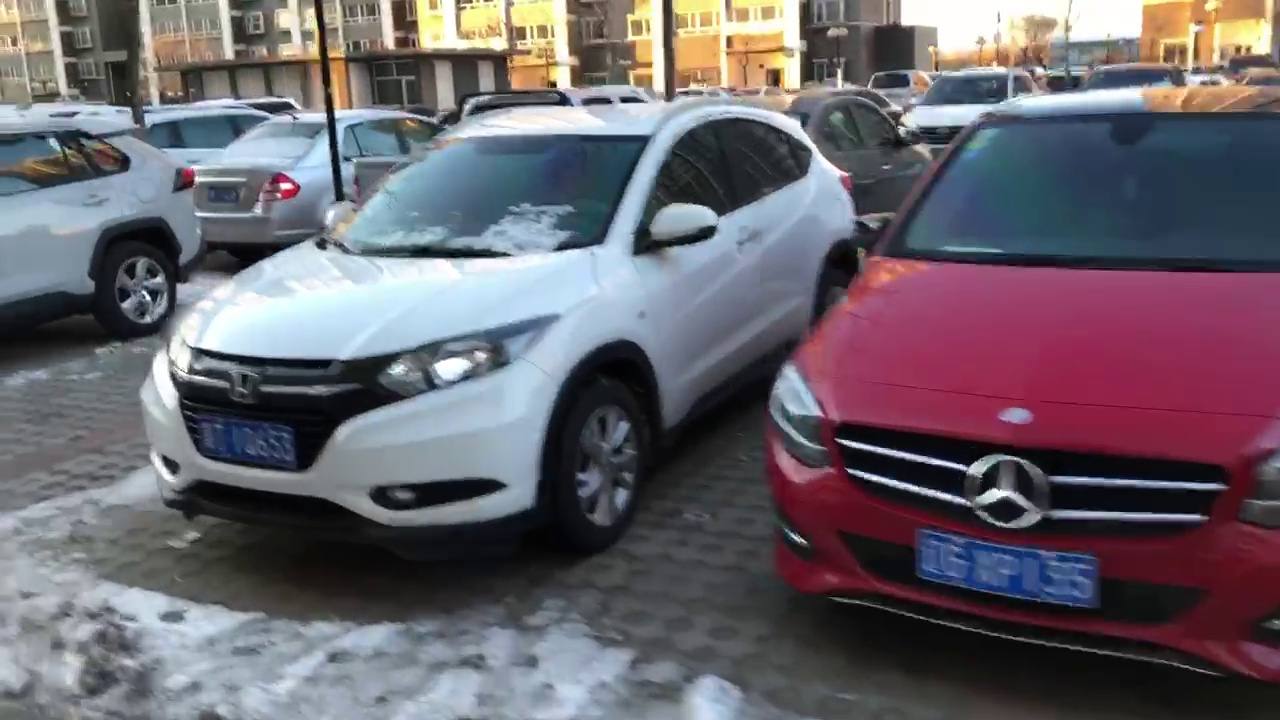plate: (905, 534, 1108, 606), (199, 422, 294, 461)
